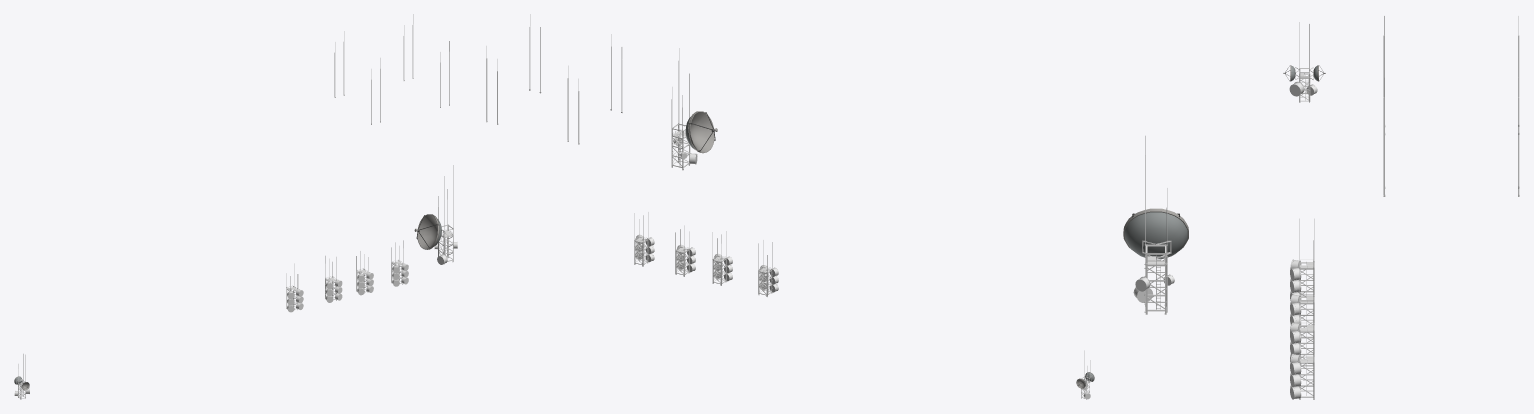
File: RadioTower.fbx
The picture shows the model from 3 angles, left to right: view 1: azimuth 30°, elevation 25°; view 2: azimuth 150°, elevation 25°; view 3: azimuth 270°, elevation 25°; orthographic projection. The views are drawn at different scales.
Visible parts, largest first — view 1: Cylinder.065, Cylinder.028, Sphere.000, Cube.778; view 2: Cube.778, Cylinder.028, Cylinder.065, Sphere.000; view 3: Sphere.000, Cylinder.065, Cube.778, Cylinder.028, Cube.776, Cube.780, Cylinder.024.
Boxes of the visible parts, <box> form: Cylinder.065: <box>14,242,457,395</box>; Cylinder.028: <box>18,14,453,381</box>; Sphere.000: <box>414,214,441,249</box>; Cube.778: <box>18,230,453,399</box>; Cube.778: <box>634,130,1089,399</box>; Cylinder.028: <box>486,14,1090,380</box>; Cylinder.065: <box>635,137,1090,399</box>; Sphere.000: <box>685,111,717,153</box>; Sphere.000: <box>1123,208,1188,259</box>; Cylinder.065: <box>1133,81,1317,399</box>; Cube.778: <box>1145,74,1314,399</box>; Cylinder.028: <box>1144,15,1519,362</box>; Cube.776: <box>1147,74,1313,362</box>; Cube.780: <box>1142,67,1313,262</box>; Cylinder.024: <box>1144,74,1314,398</box>.
Bounding box in the file's own units: 11720 × 5698 × 4807.
